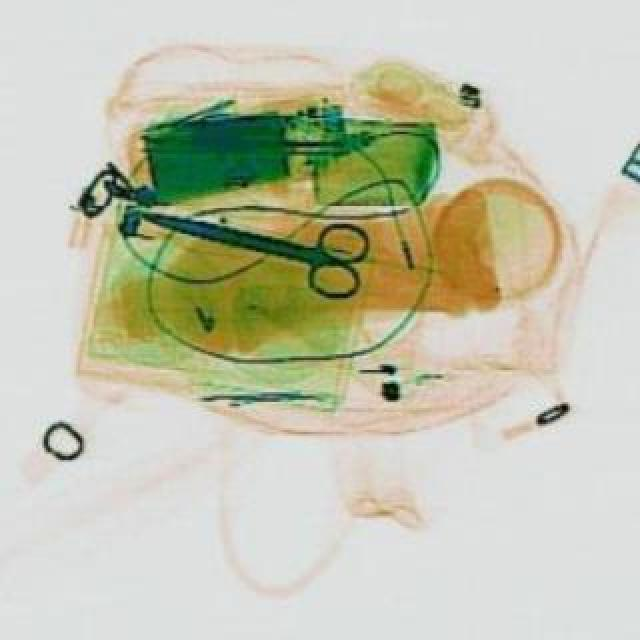pliers: (130, 178, 370, 302)
